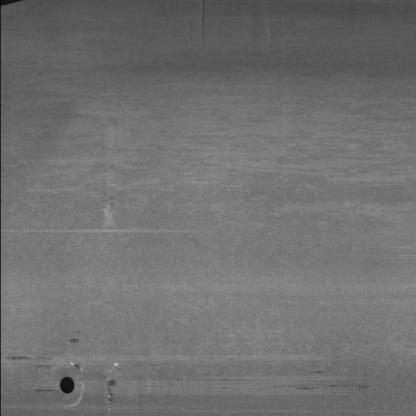punching_hole: (50, 374, 77, 397)
